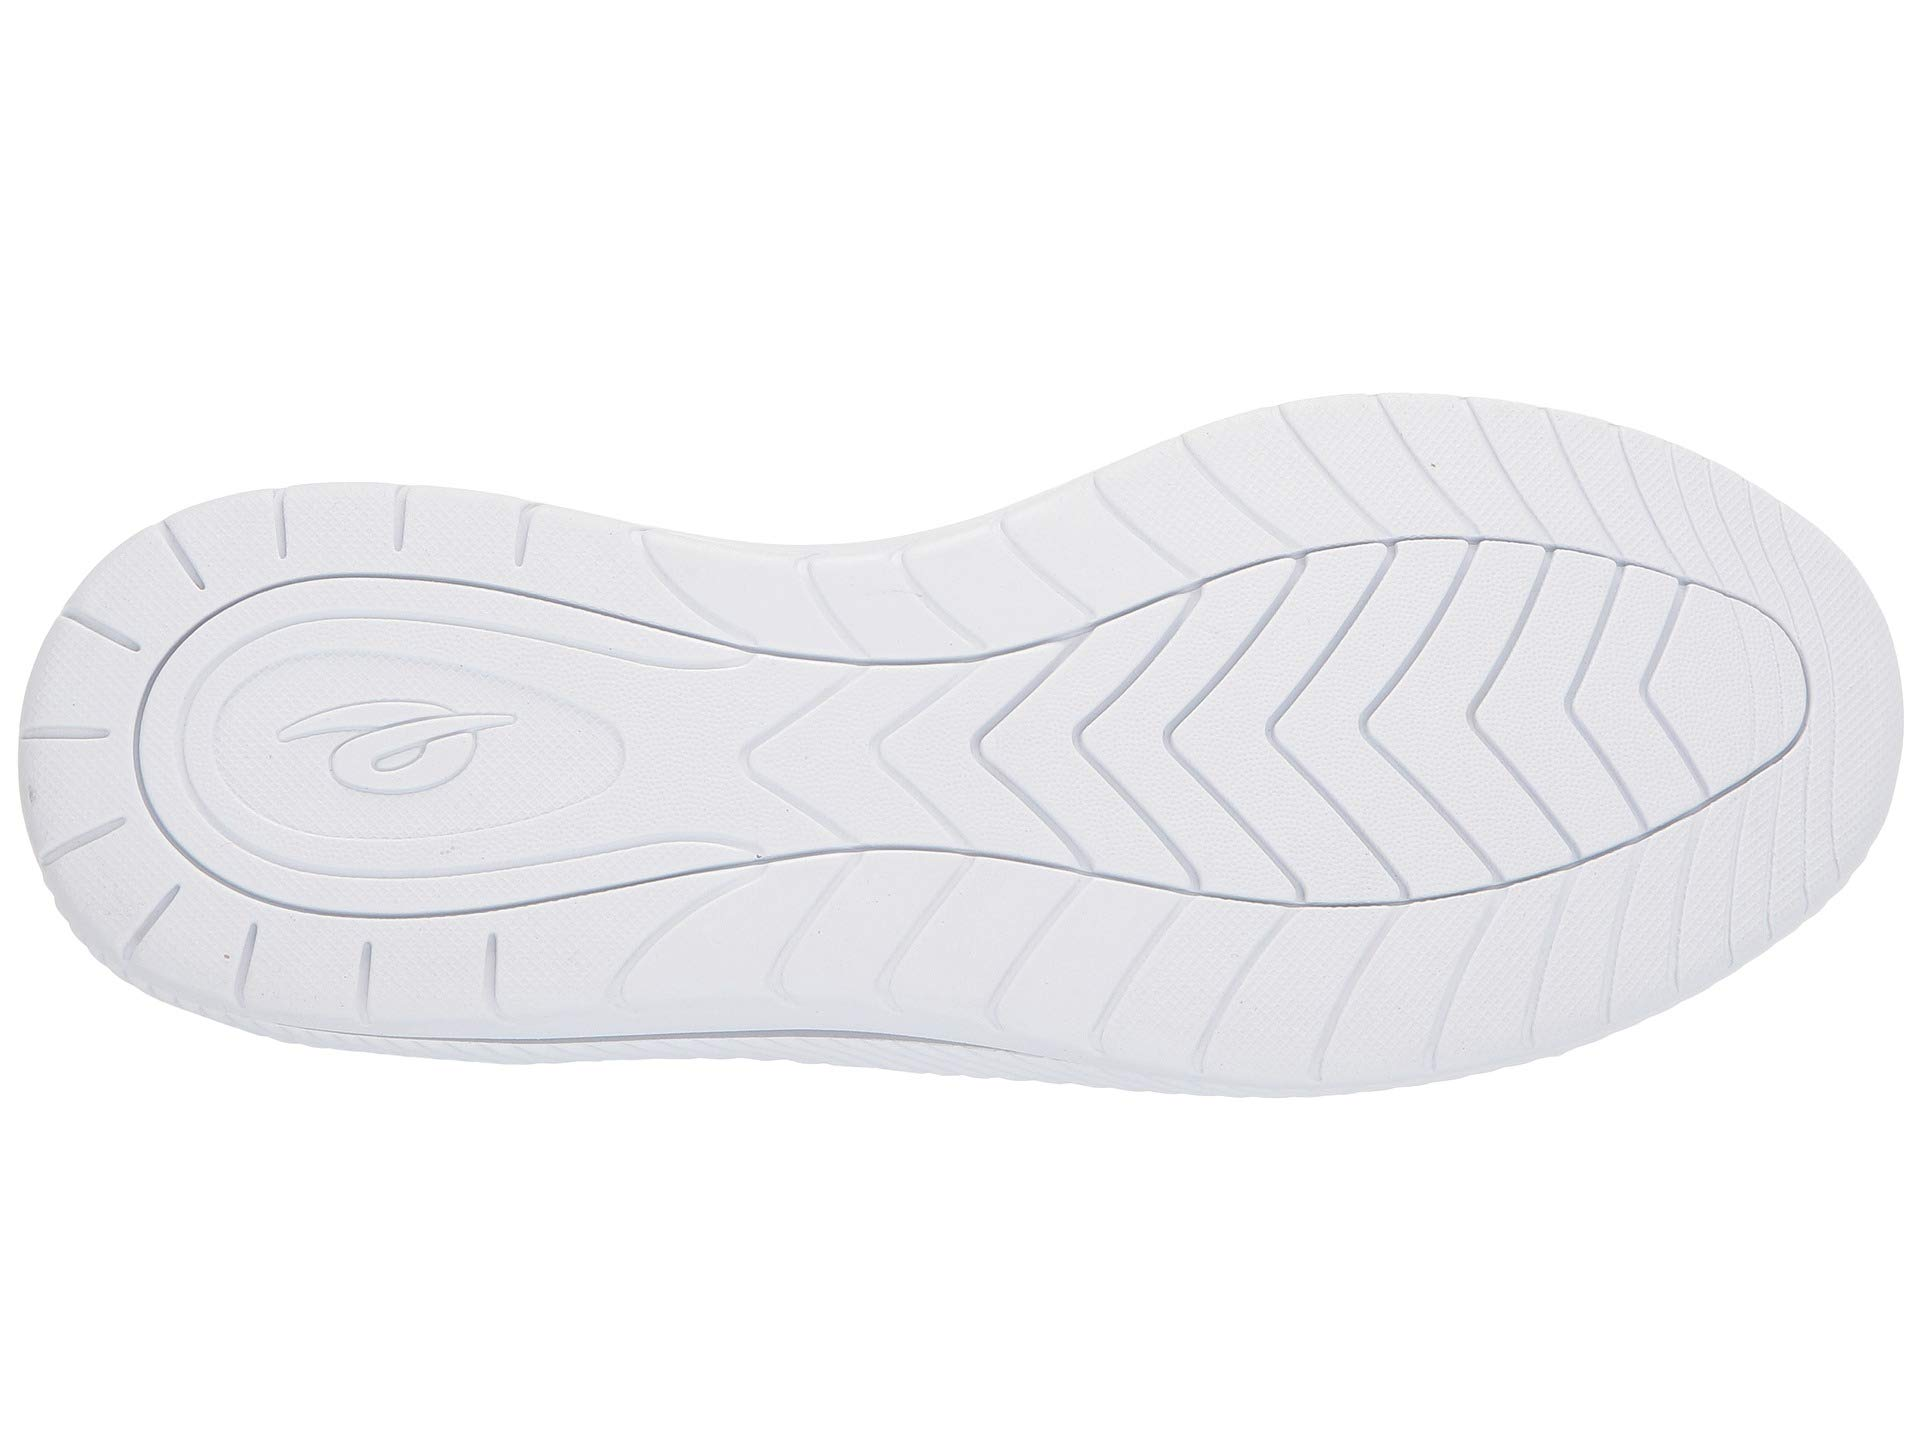chevron: (1158, 628, 1457, 929)
